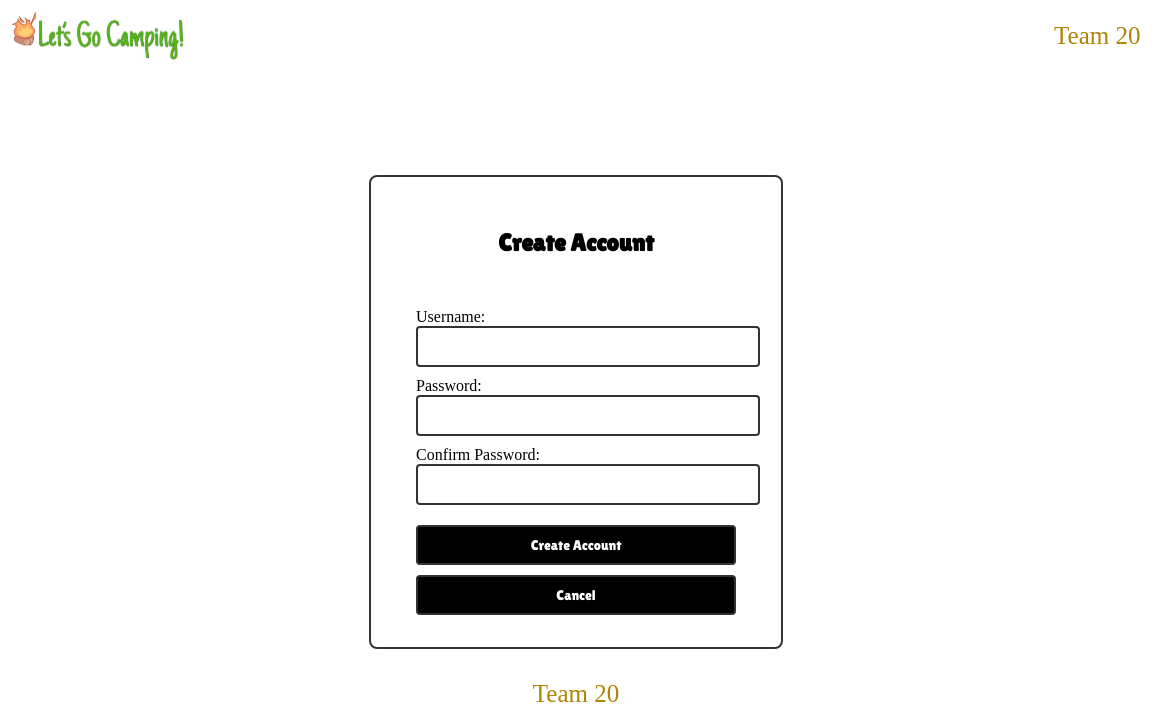
Test: CreateAccount Component › displays error when fetch operation throws an exception
// Fill in the form and submit it
Type "testUser" into the field labelled "Username:" at (588, 347), box [416,326,760,367]
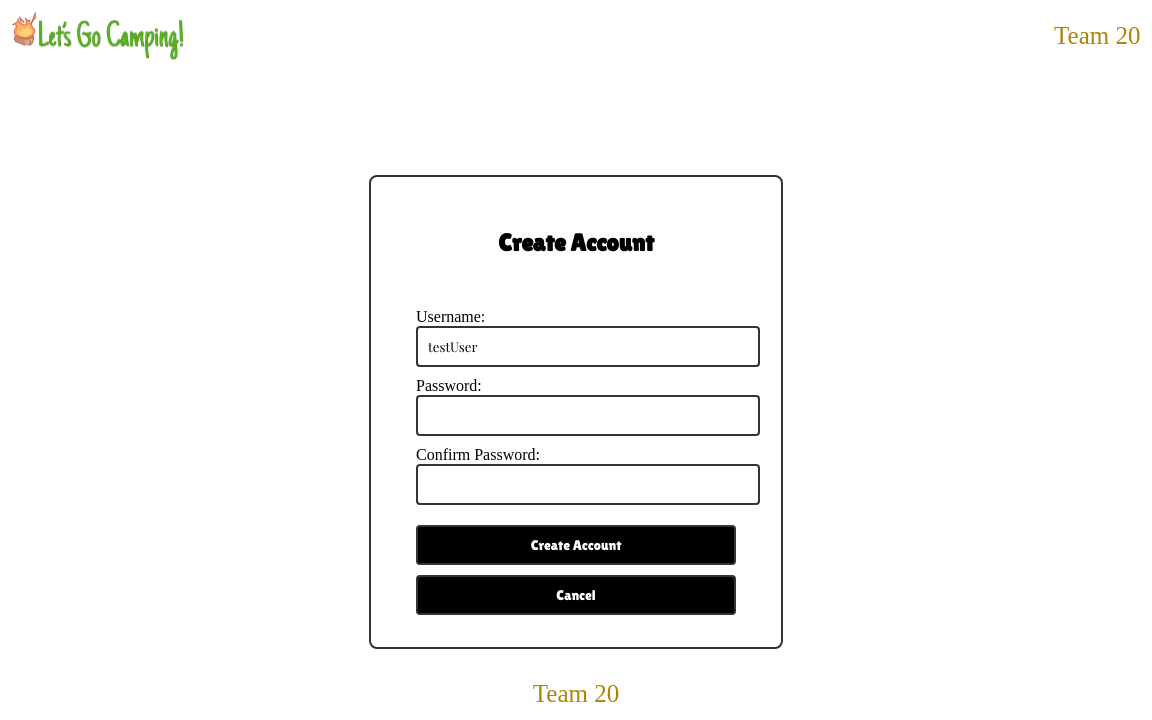
Type "Password123" into the password field labelled "Password:" at (588, 416), box [416,395,760,436]
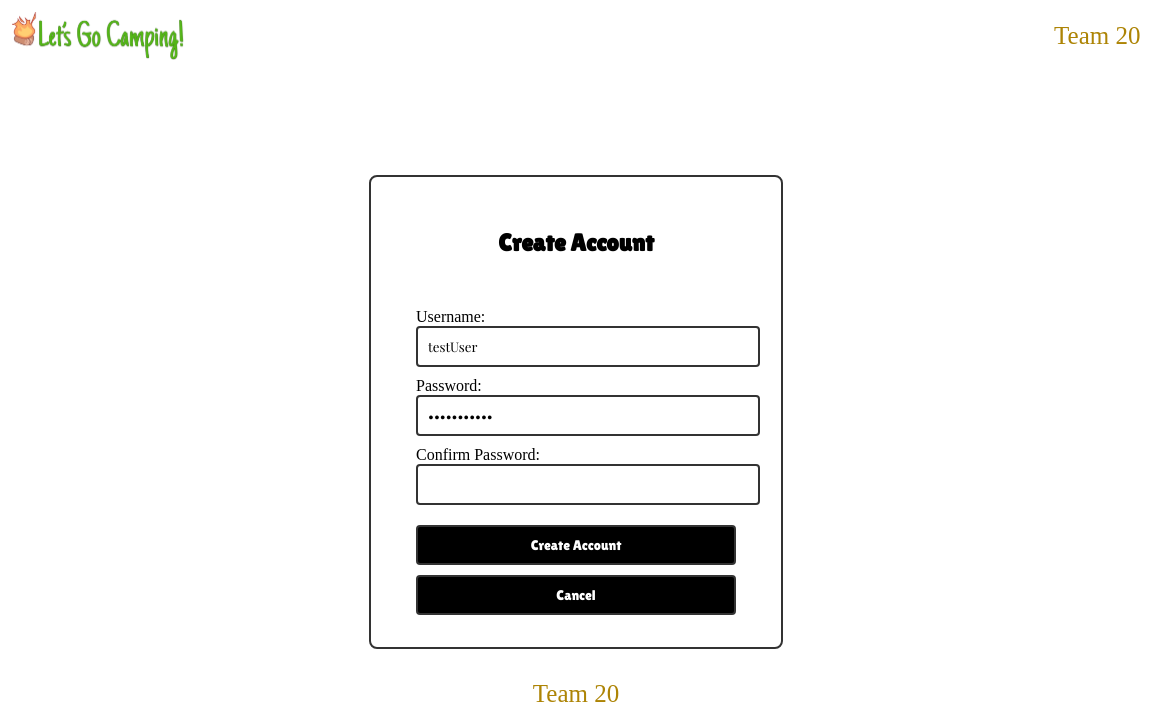
Type "Password123" into the password field labelled "Confirm Password:" at (588, 485), box [416,464,760,505]
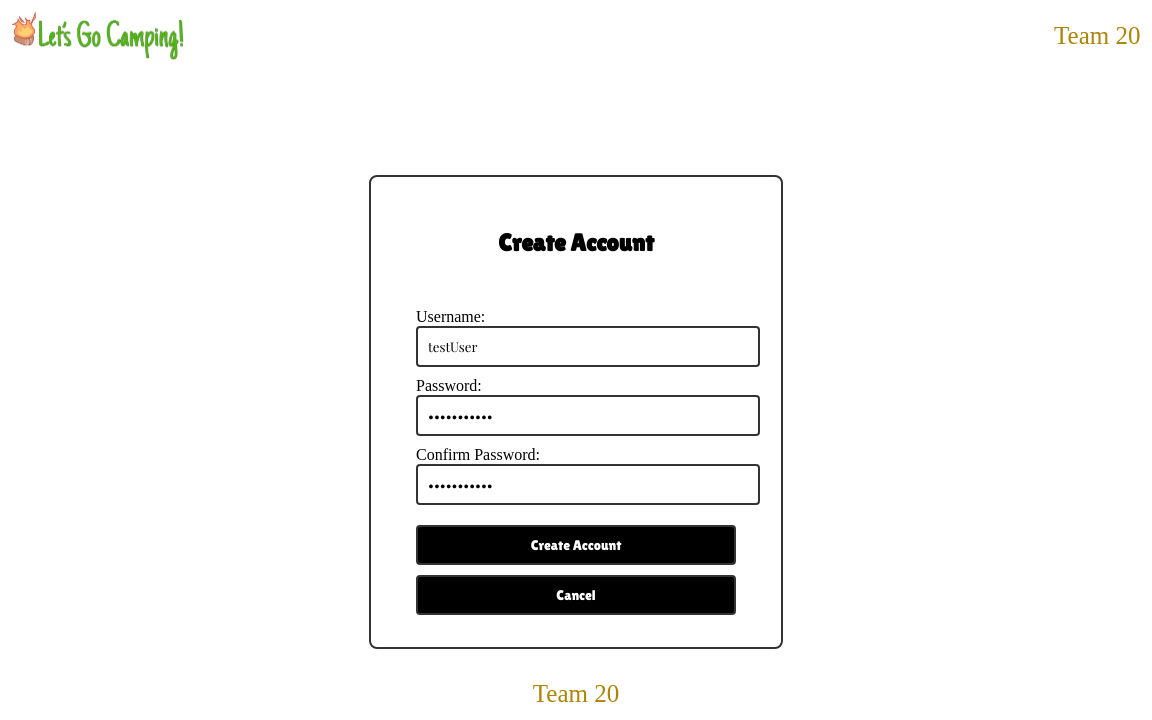
Click the button "Create Account" at (576, 545), box [416,525,736,565]
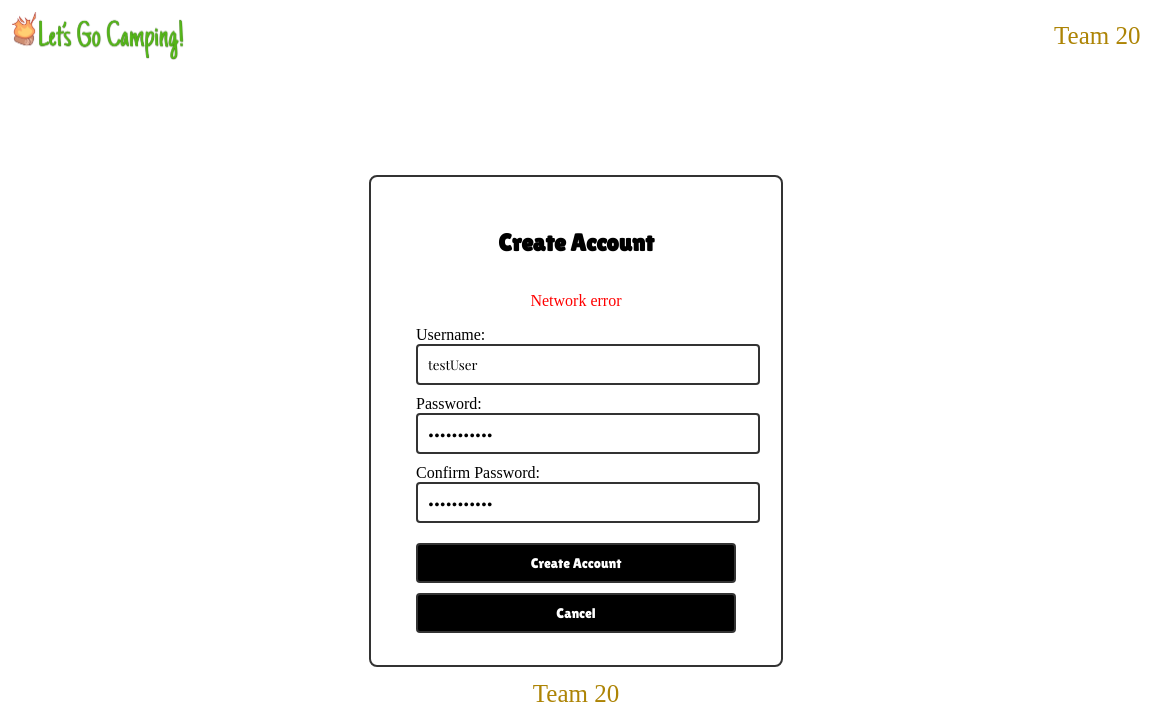
Result: the text "Network error" is shown at [530,292,622,310]
